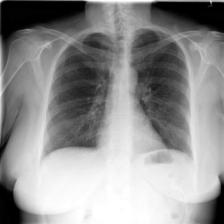normal: (38, 27, 196, 171)
